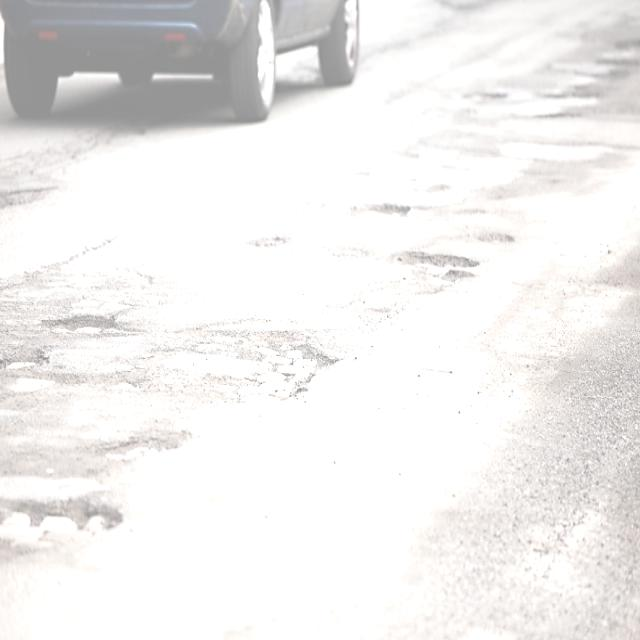Pothole: (0, 487, 122, 552), (378, 241, 486, 297), (34, 306, 138, 347)
